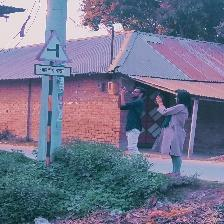Side-road-left: (33, 33, 72, 77)
